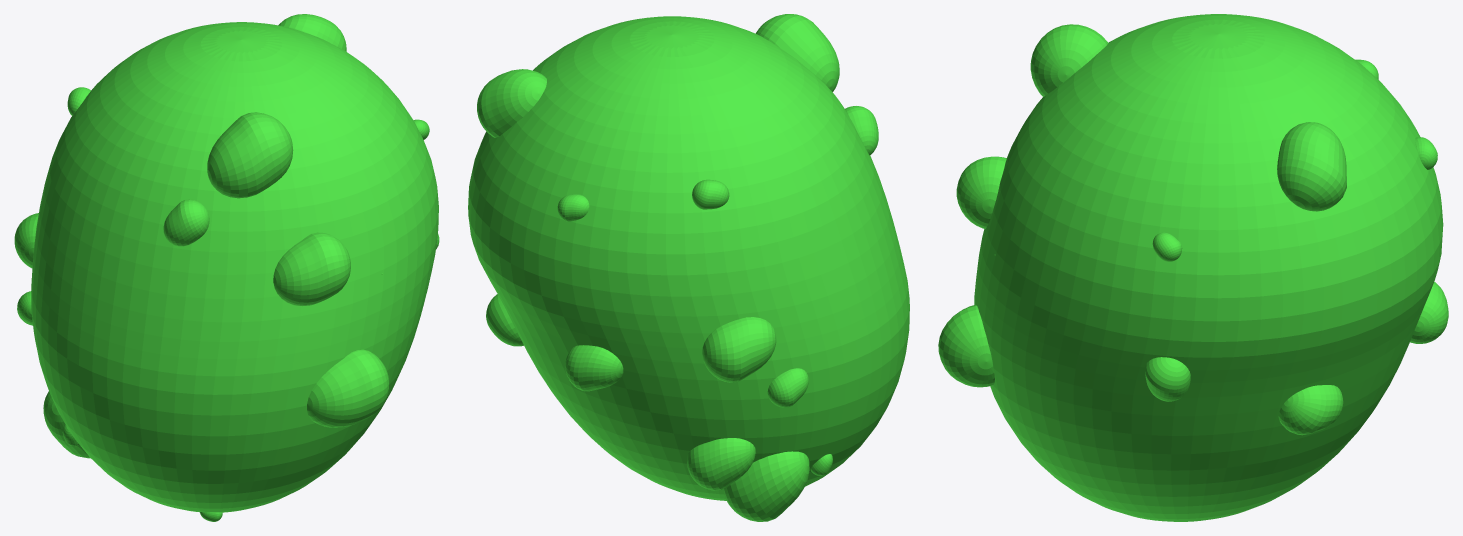
File: rockGreen.fbx
The picture shows the model from 3 angles, left to right: view 1: azimuth 30°, elevation 25°; view 2: azimuth 150°, elevation 25°; view 3: azimuth 270°, elevation 25°; orthographic projection. The views are drawn at different scales.
Visible parts, largest first — view 1: Sphere; view 2: Sphere; view 3: Sphere.
Part boxes in pixels (<box>): Sphere: <box>14,14,439,521</box>; Sphere: <box>468,14,909,521</box>; Sphere: <box>938,14,1448,521</box>.
Size of the model in its own units: 11.77 by 13.35 by 12.45.
